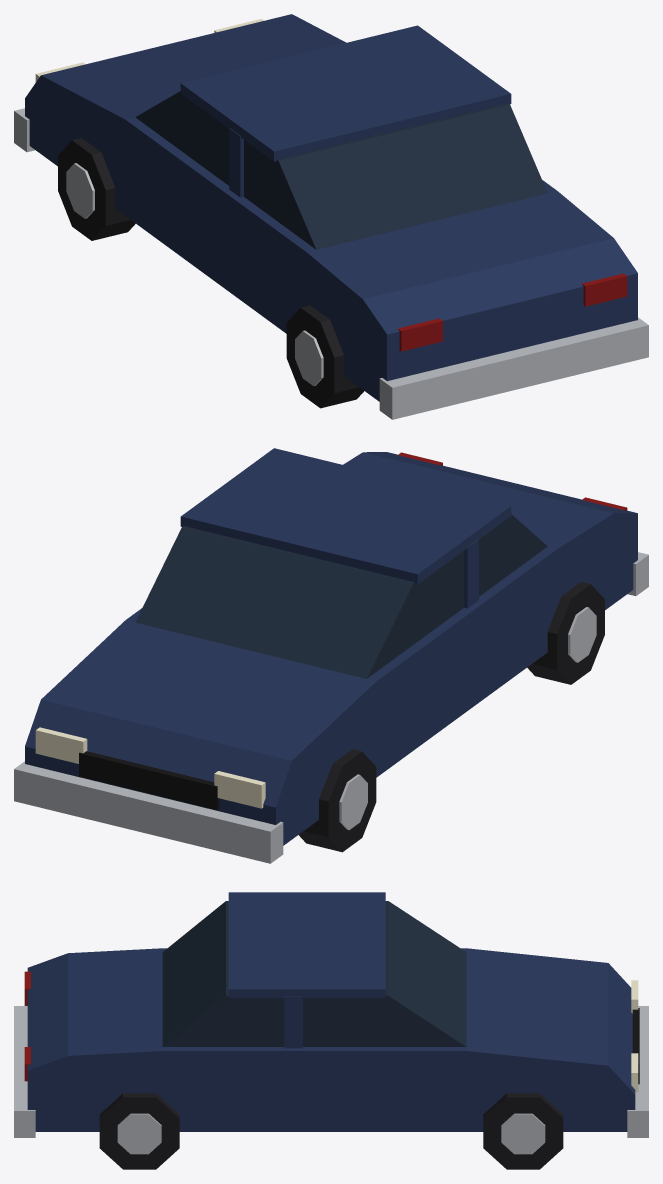
File: CarSedanNavy.obj
The picture shows the model from 3 angles, top to bottom: view 1: azimuth 30°, elevation 25°; view 2: azimuth 150°, elevation 25°; view 3: azimuth 270°, elevation 25°; orthographic projection. The views are drawn at different scales.
Parts seen in each view (by area): view 1: CarSedanNavy; view 2: CarSedanNavy; view 3: CarSedanNavy.
Boxes of the visible parts, x1,y1,x2,y2 form: CarSedanNavy: (14,14,648,419); CarSedanNavy: (14,448,648,863); CarSedanNavy: (14,892,648,1169).
Size of the model in its own units: 1.97 by 1.42 by 4.7.
Materials: 1 (1 with a texture image).
